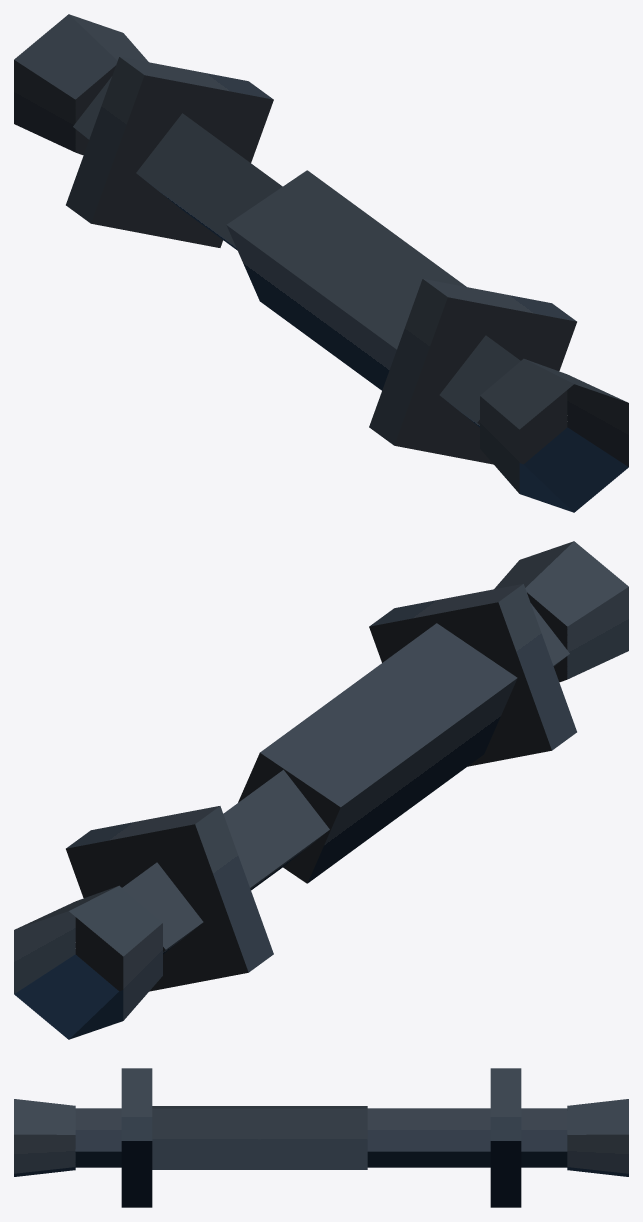
Rendered from dfh21_transmission_rod_standard.obj.
3 views of the same model, one above another, from view 1: azimuth 30°, elevation 25°; view 2: azimuth 150°, elevation 25°; view 3: azimuth 270°, elevation 25° (orthographic). The views are drawn at different scales.
Parts seen in each view (by area): view 1: cuboid_selection; view 2: cuboid_selection; view 3: cuboid_selection.
Boxes of the visible parts, box(x1,y1,x2,y2) form: cuboid_selection: box(14, 14, 628, 512); cuboid_selection: box(14, 541, 628, 1039); cuboid_selection: box(14, 1068, 628, 1207).
Bounding box in the file's own units: 0.2613 × 0.2613 × 1.25.
